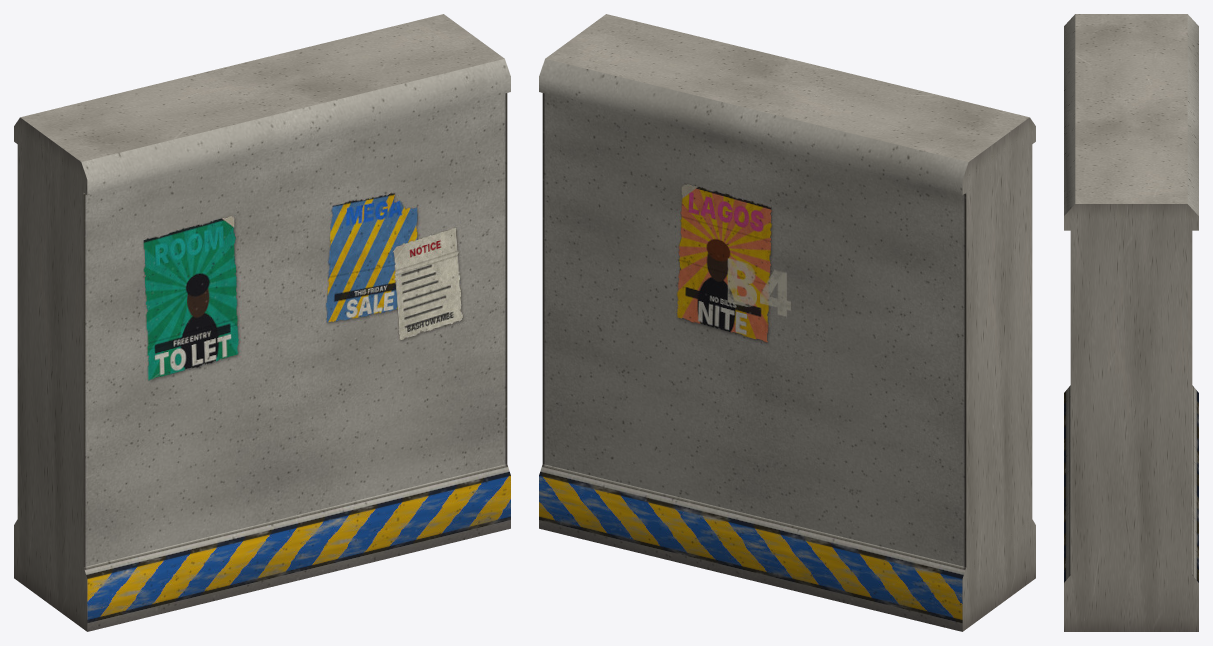
The model's file is env_wall.glb.
3 renders of one model, left to right at view 1: azimuth 30°, elevation 25°; view 2: azimuth 150°, elevation 25°; view 3: azimuth 270°, elevation 25°, orthographic. The views are drawn at different scales.
Visible parts, largest first — view 1: env_wall_body; view 2: env_wall_body; view 3: env_wall_body.
Part boxes in pixels (left/top/right/bottom): env_wall_body: left=14, top=14, right=510, bottom=631; env_wall_body: left=539, top=14, right=1035, bottom=631; env_wall_body: left=1064, top=14, right=1198, bottom=631.
Bounding box in the file's own units: 1 × 1.05 × 0.3.
1 material, 1 textured.
